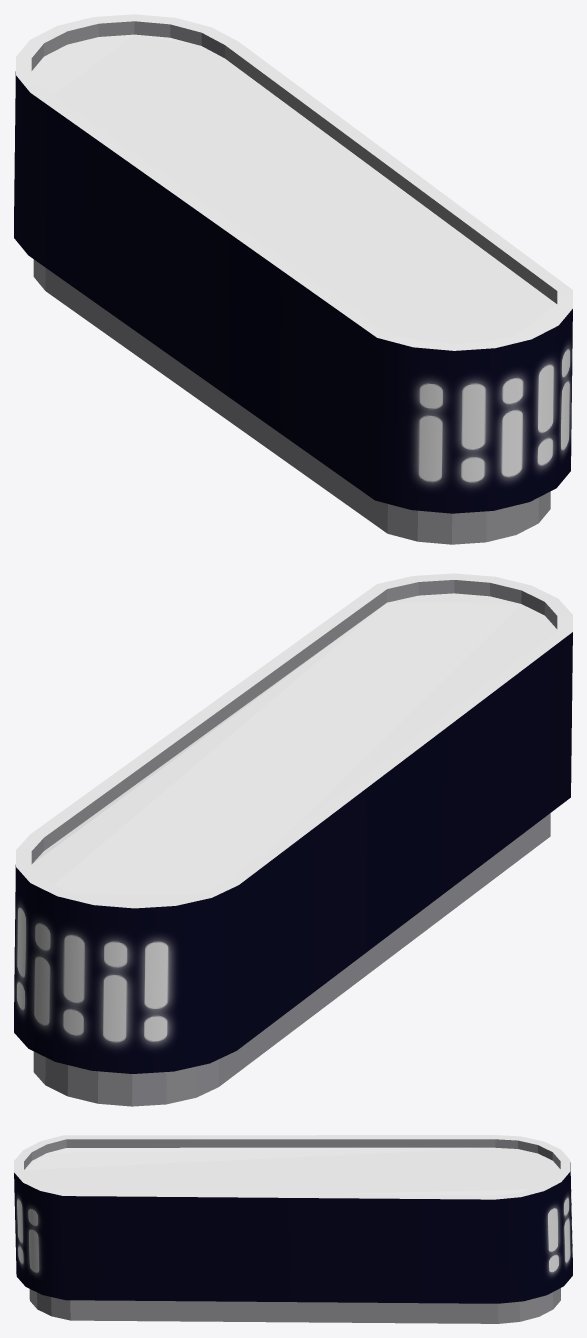
The model's file is PRSW_MesaG.FBX.
The picture shows the model from 3 angles, top to bottom: view 1: azimuth 30°, elevation 25°; view 2: azimuth 150°, elevation 25°; view 3: azimuth 270°, elevation 25°; orthographic projection. The views are drawn at different scales.
Parts seen in each view (by area): view 1: PRSW_MesaG; view 2: PRSW_MesaG; view 3: PRSW_MesaG.
Part boxes in pixels (box(x1,y1,x2,y2)): PRSW_MesaG: box(14, 14, 572, 544); PRSW_MesaG: box(14, 573, 572, 1106); PRSW_MesaG: box(14, 1135, 572, 1323).
Size of the model in its own units: 1 by 0.9492 by 3.66.
